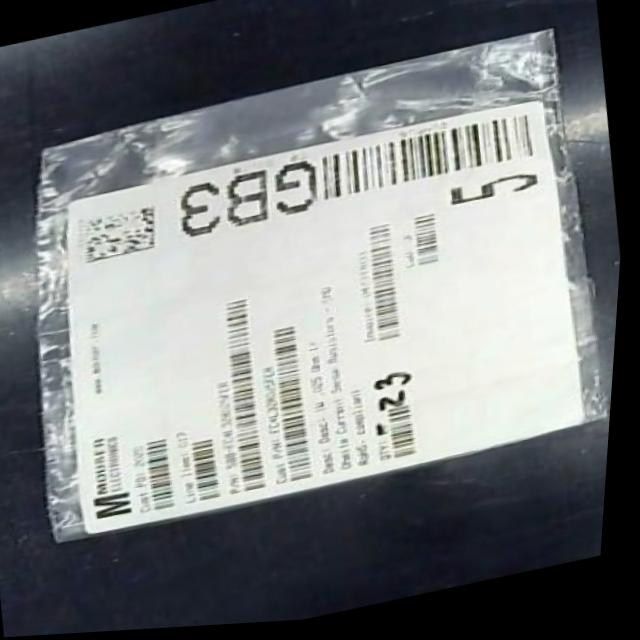datamatrix: (81, 204, 168, 267)
